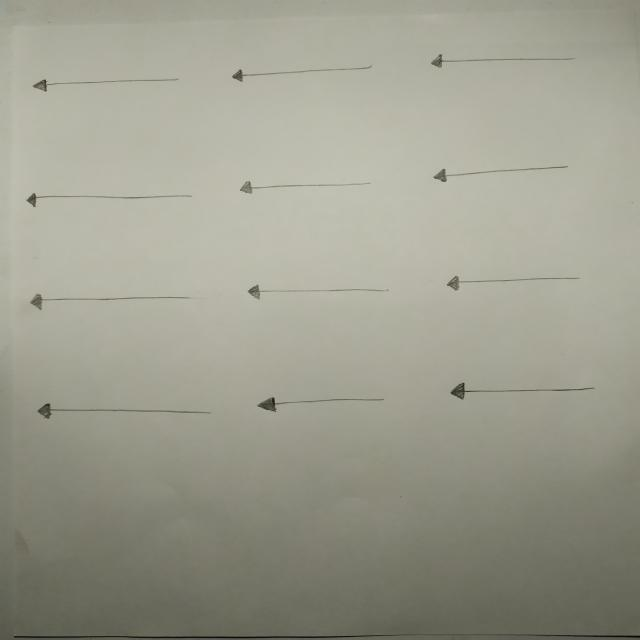arrow_line_left: (29, 398, 223, 429), (22, 288, 205, 315), (236, 280, 402, 308), (18, 188, 205, 212), (422, 48, 585, 72), (440, 380, 603, 402), (28, 72, 188, 94), (422, 164, 581, 186), (245, 392, 396, 414), (436, 271, 594, 292), (226, 64, 382, 85), (229, 176, 385, 197)
